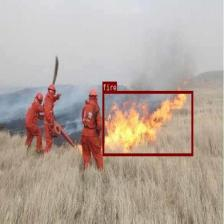fire: (102, 91, 193, 156)
